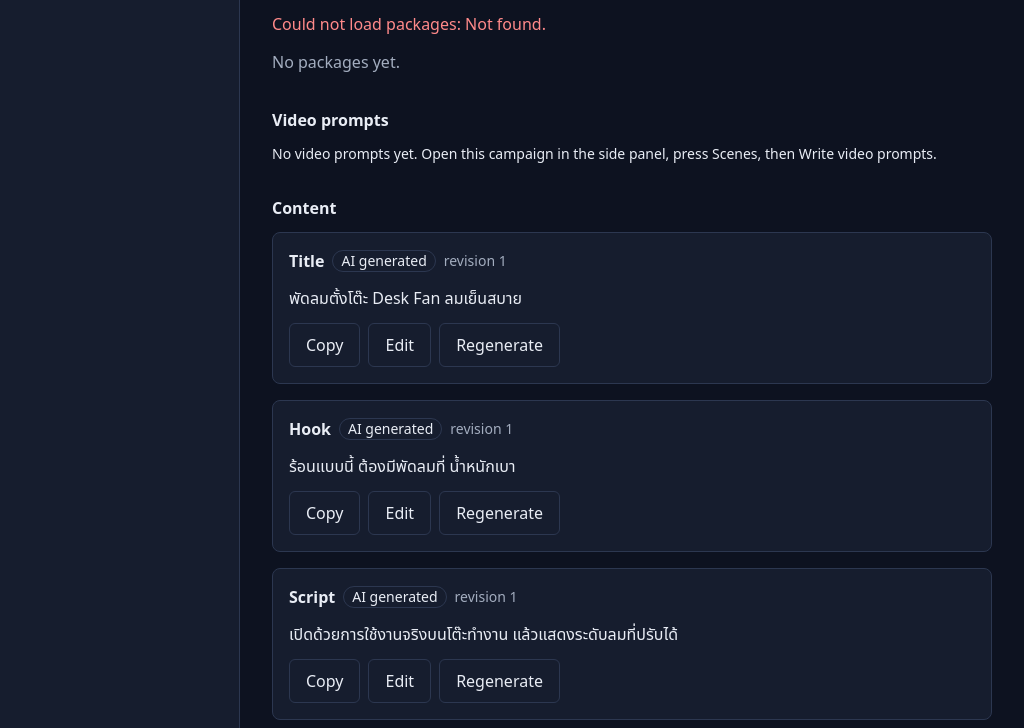
Test case: DraftPage: copy › shows the copy failure message when the browser refuses
(page scrolled)
Click the button "Copy" below "พัดลมตั้งโต๊ะ Desk Fan ลมเย็นสบาย". click: (325, 345)
box: top-left (289, 323), bottom-right (360, 367)
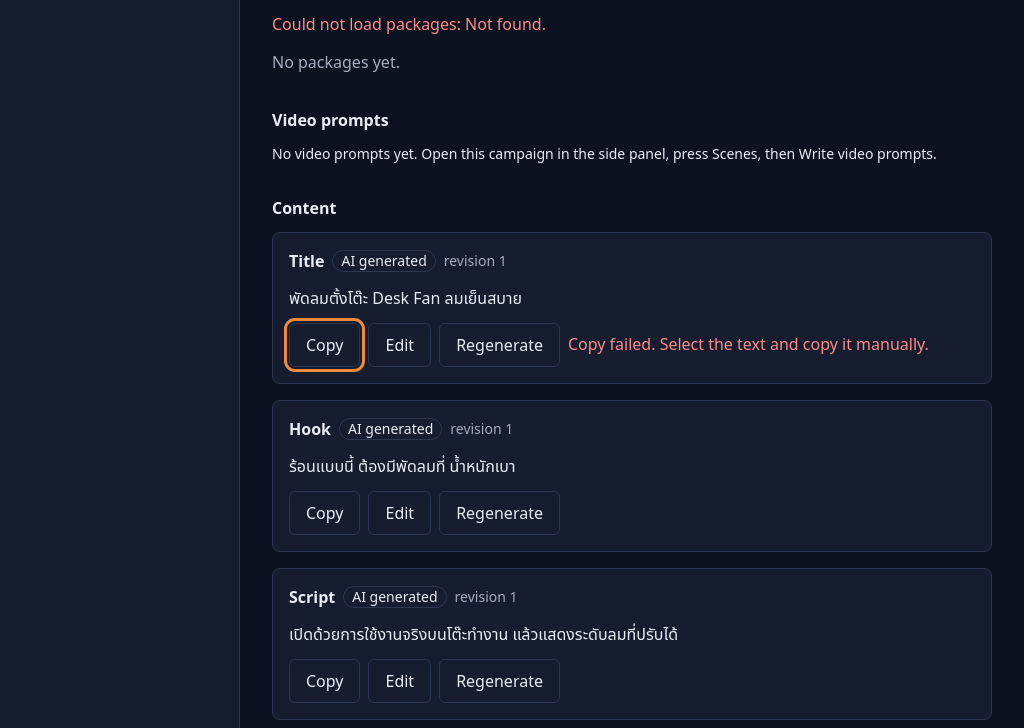
expect the message "Copy failed. Select the text and copy it manually." is shown: met, box top-left (568, 332), bottom-right (929, 357)
